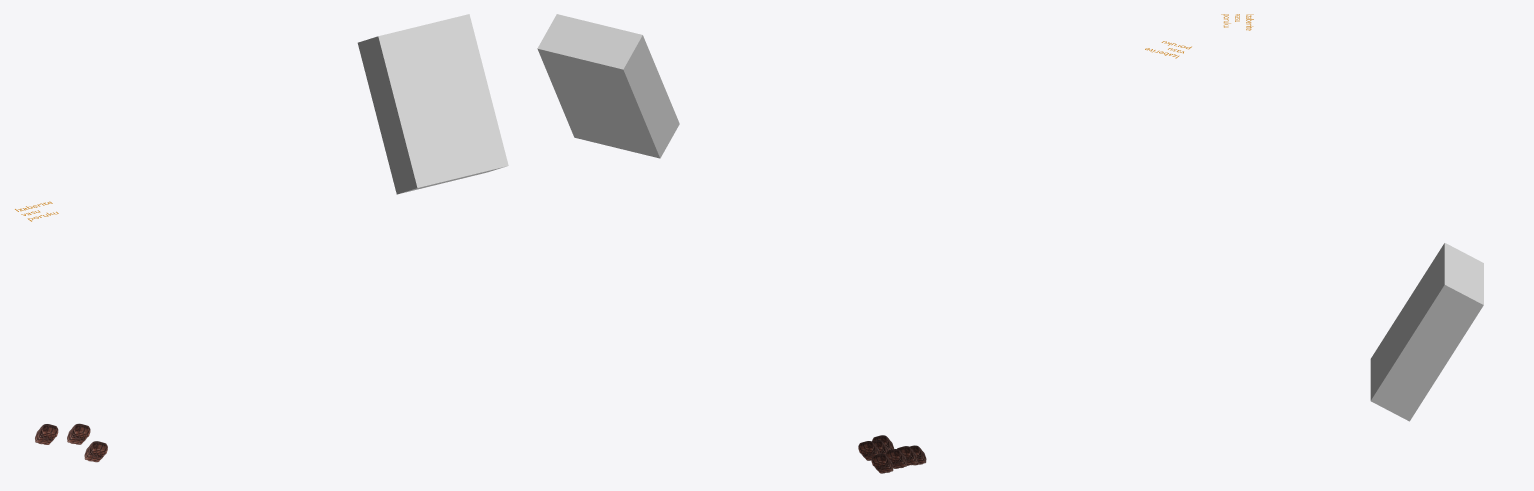
File: ani2.4301b019.glb
3 views of the same model, side by side, from view 1: azimuth 30°, elevation 25°; view 2: azimuth 150°, elevation 25°; view 3: azimuth 270°, elevation 25° (orthographic). The views are drawn at different scales.
Parts seen in each view (by area): view 1: Cube.001, Cube; view 2: Cube, Cube.001; view 3: Cube.001, Cube.
Part boxes in pixels (bbox=[...]): Cube.001: bbox=[368, 14, 508, 191]; Cube: bbox=[357, 39, 495, 194]; Cube: bbox=[537, 31, 669, 158]; Cube.001: bbox=[547, 14, 679, 140]; Cube.001: bbox=[1370, 243, 1464, 410]; Cube: bbox=[1390, 253, 1483, 421].
Size of the model in its own units: 53.85 by 35.88 by 26.46.
Materials: 3 (1 with a texture image).
